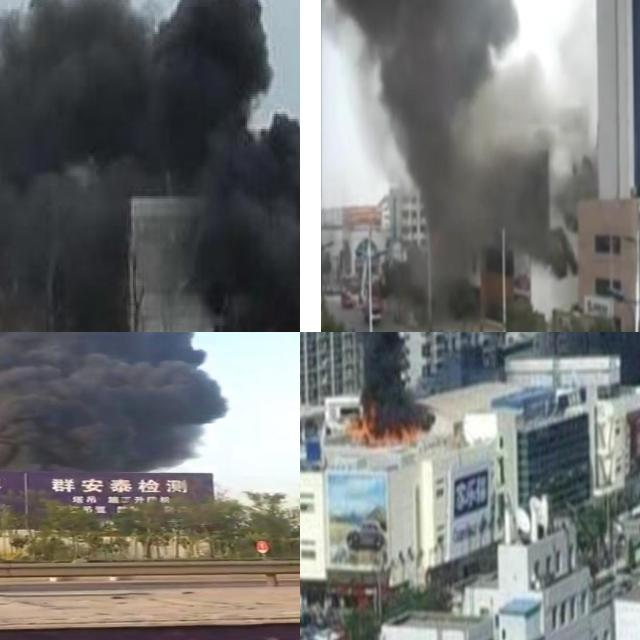fire: (350, 401, 426, 449)
smoke: (319, 0, 598, 272), (0, 0, 280, 166), (0, 332, 224, 473), (0, 169, 131, 332), (194, 139, 300, 332), (335, 332, 434, 428)
